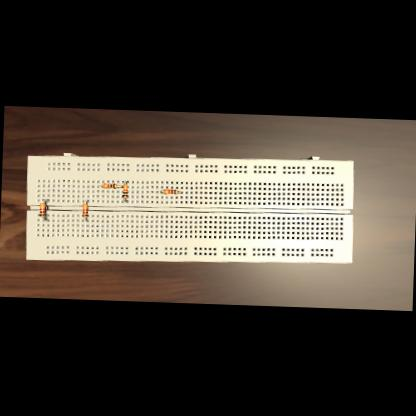breadboard: (23, 146, 355, 271)
resistor: (39, 203, 45, 217), (82, 204, 88, 218), (101, 183, 116, 188), (122, 184, 127, 198), (162, 190, 176, 193)
wire: (41, 217, 48, 220), (83, 217, 88, 220), (42, 200, 48, 202), (124, 198, 126, 202), (84, 200, 87, 202), (124, 181, 127, 183), (160, 191, 162, 192), (100, 184, 101, 186), (178, 192, 182, 192), (116, 186, 121, 186)
